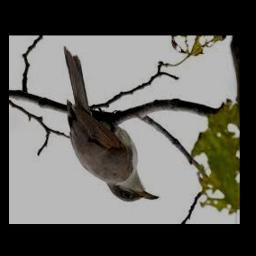Cuckoo: (64, 47, 160, 202)
